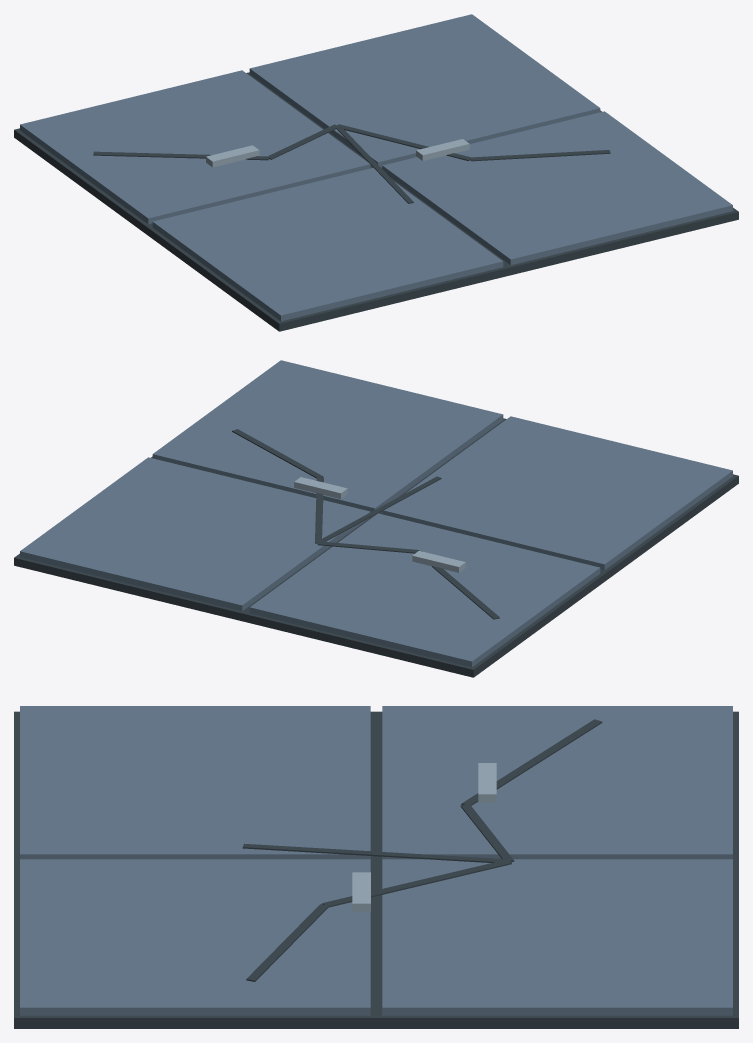
Rendered from archive_floor_variant.glb.
3 renders of one model, top to bottom at view 1: azimuth 30°, elevation 25°; view 2: azimuth 150°, elevation 25°; view 3: azimuth 270°, elevation 25°, orthographic. The views are drawn at different scales.
Parts seen in each view (by area): view 1: archive_floor_variant; view 2: archive_floor_variant; view 3: archive_floor_variant.
Part boxes in pixels (x1=…): archive_floor_variant: x1=14, y1=14, x2=738, y2=331; archive_floor_variant: x1=14, y1=360, x2=738, y2=677; archive_floor_variant: x1=14, y1=706, x2=738, y2=1028.
Bounding box in the file's own units: 1.96 × 0.084 × 1.96.
